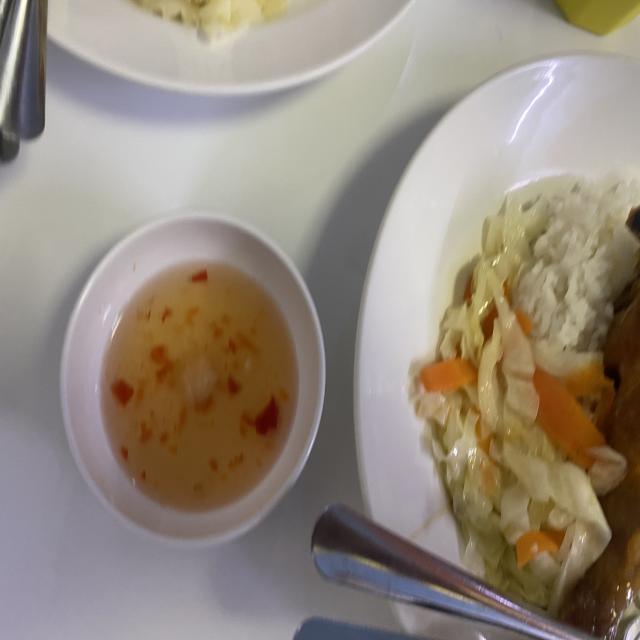bap cai xao: (408, 203, 626, 609)
com: (511, 179, 640, 352)
nuoc mam: (104, 266, 298, 510)
